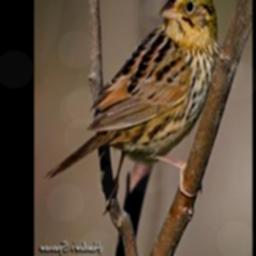Sparrow: (42, 0, 223, 215)
